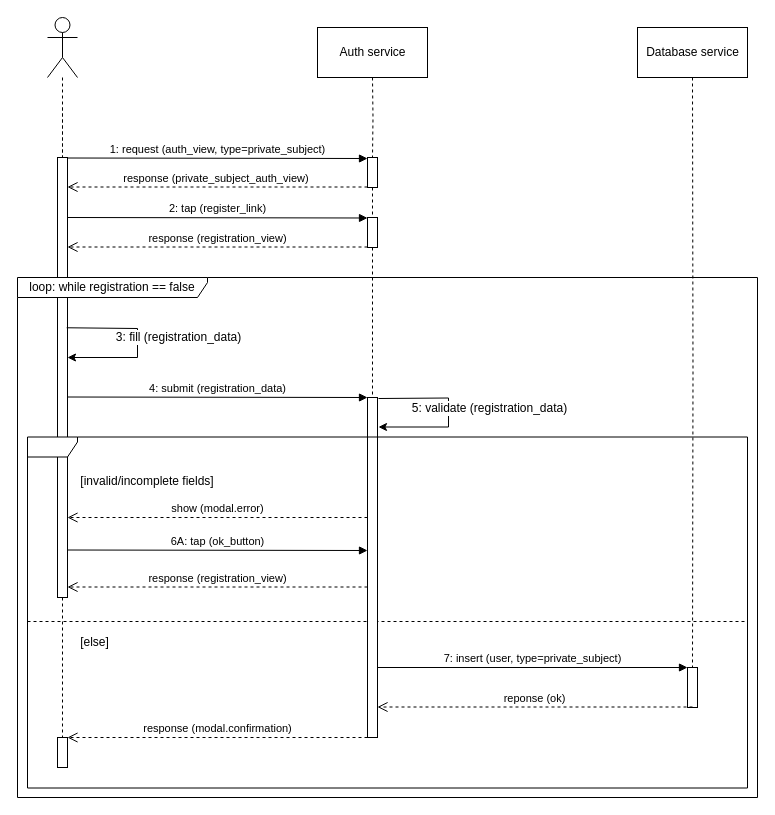
The diagram is 775 pixels wide and 815 high, and some of its shapes have lost their labels. Each missing label, with the centre of its shape:
"alt" belongs at (387,612).
"User" belongs at (62,47).
